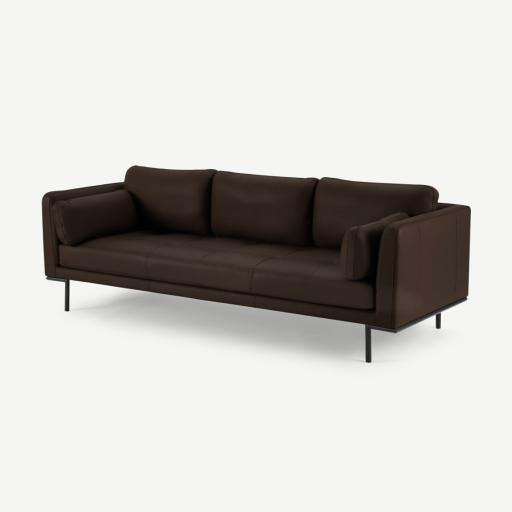back_cushion: (124, 166, 437, 248)
base: (60, 269, 260, 307), (276, 300, 373, 323)
left_arm: (374, 205, 470, 328)
legs: (365, 298, 467, 363), (46, 277, 69, 311)
right_arm: (42, 183, 122, 277)
seat_cushion: (60, 231, 374, 312)
two-seater: (0, 0, 511, 512)
